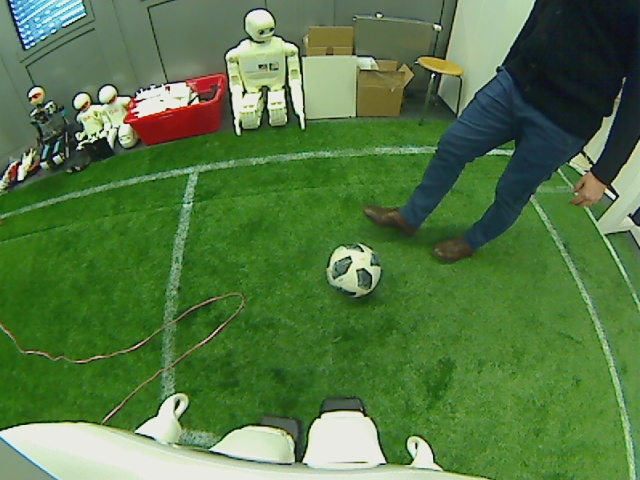ball: (324, 240, 384, 299)
